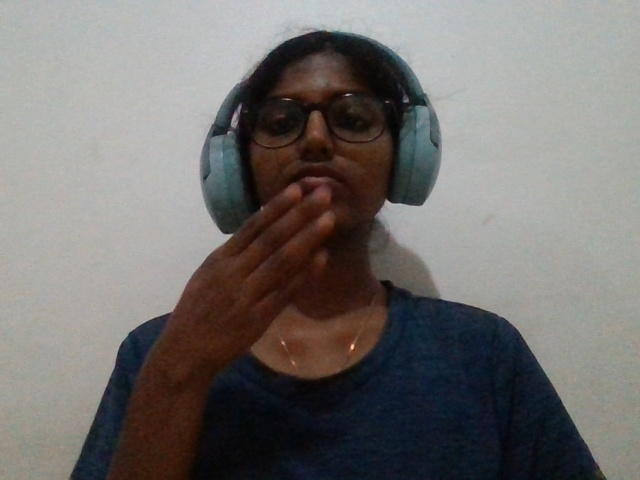Thanks: (150, 156, 365, 401)
